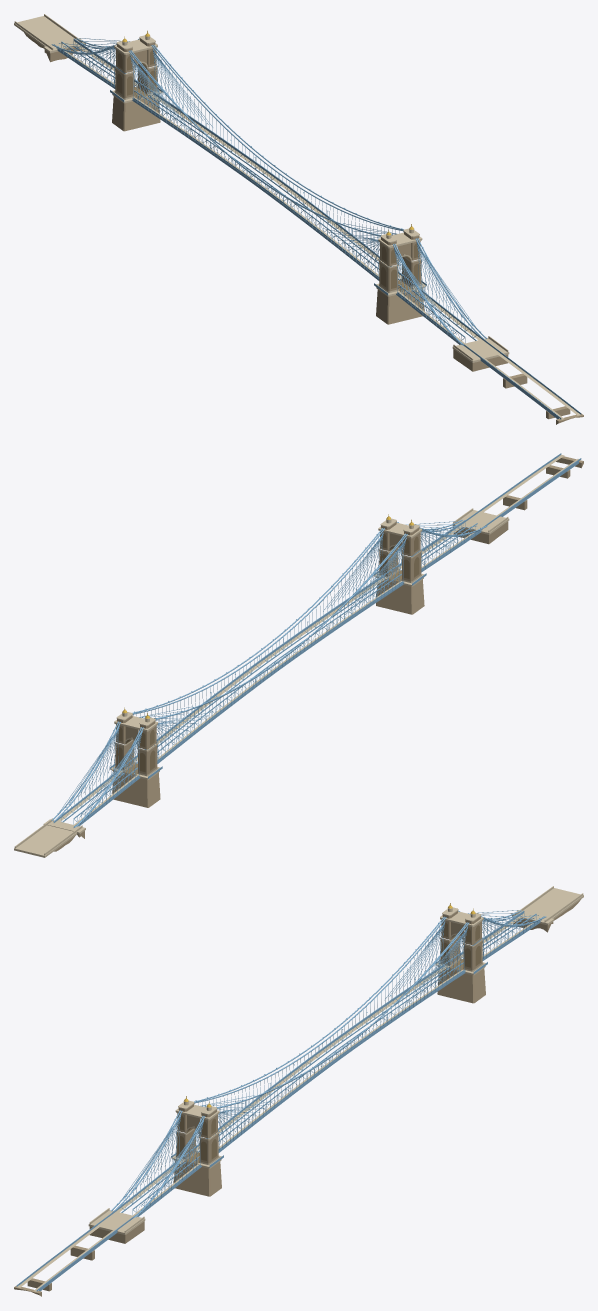
Rendered from cin-roebling-bridge.detail.glb.
The picture shows the model from 3 angles, top to bottom: view 1: azimuth 30°, elevation 25°; view 2: azimuth 150°, elevation 25°; view 3: azimuth 330°, elevation 25°; orthographic projection.
Visible parts, largest first — view 1: John A. Roebling Suspension Bridge; view 2: John A. Roebling Suspension Bridge; view 3: John A. Roebling Suspension Bridge.
Boxes of the visible parts, bbox=[...] form: John A. Roebling Suspension Bridge: bbox=[14, 14, 583, 424]; John A. Roebling Suspension Bridge: bbox=[14, 453, 583, 857]; John A. Roebling Suspension Bridge: bbox=[14, 886, 583, 1296].
Size of the model in its own units: 26.9 by 59.6 by 658.
